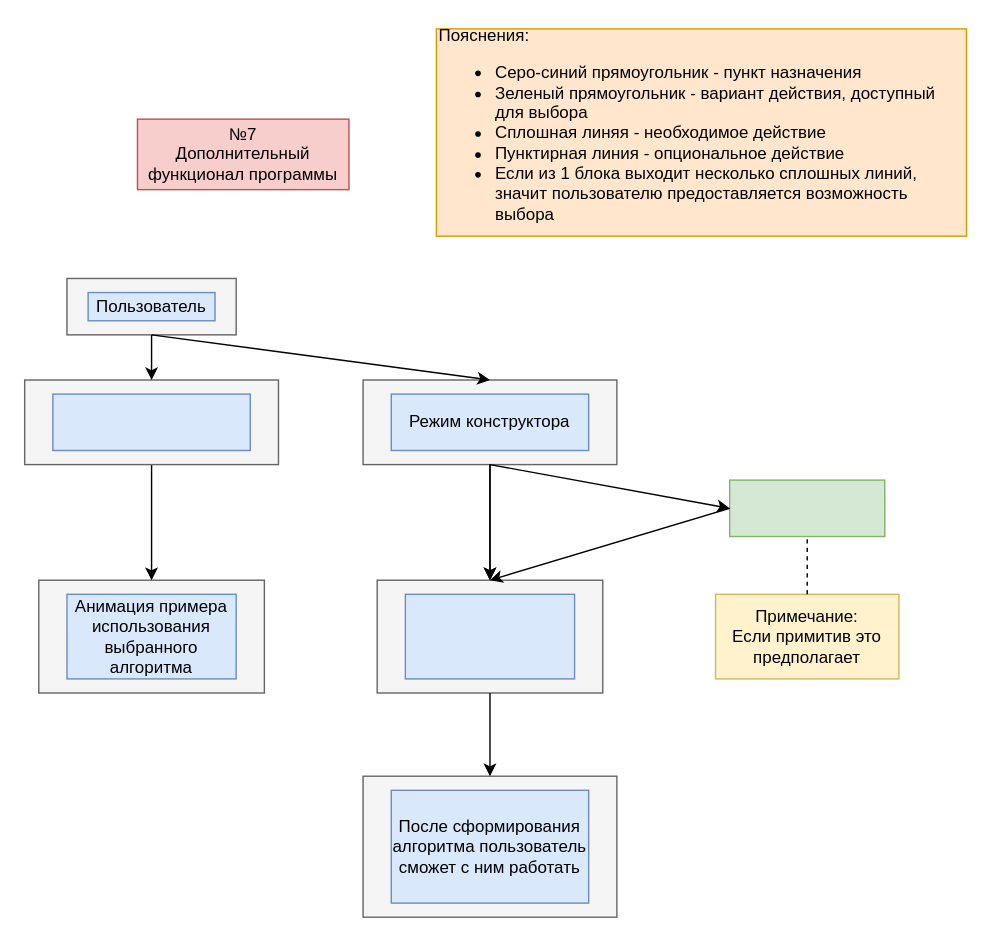
The diagram is 991 pixels wide and 942 high, and some of its shapes have lost their labels. The shapes that lost their labels are listed below. From the top down, each one's box as (x1, y1, x2, y2) in pixels, then its label:
(51, 393, 250, 450): Демонстрационный режим
(728, 479, 885, 537): Редактирование
(404, 593, 575, 679): Ряд криптографических примитив, которые можно связать
